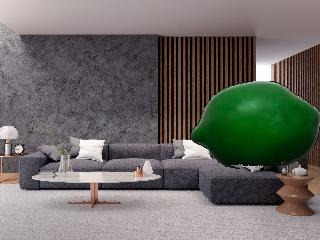lime: (188, 74, 320, 170)
